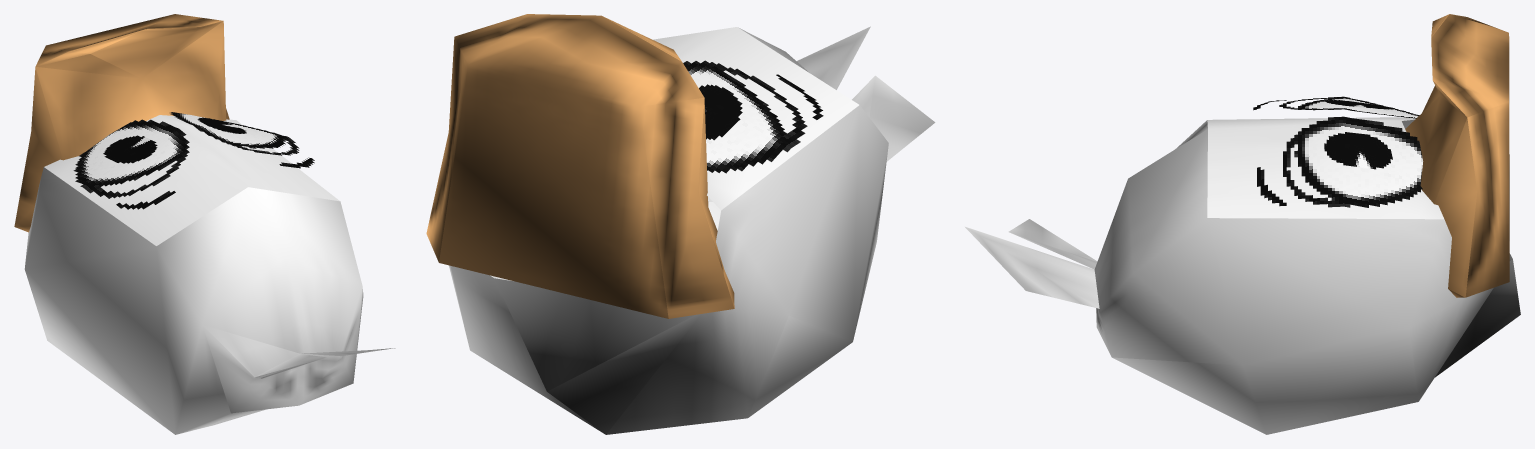
The model's file is fls_250.glb.
3 renders of one model, left to right at view 1: azimuth 30°, elevation 25°; view 2: azimuth 150°, elevation 25°; view 3: azimuth 270°, elevation 25°, orthographic. The views are drawn at different scales.
Parts seen in each view (by area): view 1: head-long, muzzle-short-neutral, head-front-long, eyes-long, joint_pupilL_long, joint_pupilR_long; view 2: muzzle-short-neutral, head-long, head-front-long, eyes-long, joint_pupilL_long; view 3: head-long, muzzle-short-neutral, head-front-long, eyes-long, joint_pupilR_long.
Part boxes in pixels (x1=…): head-long: x1=24, y1=167, x2=395, y2=434; muzzle-short-neutral: x1=14, y1=14, x2=229, y2=232; head-front-long: x1=44, y1=115, x2=339, y2=245; eyes-long: x1=73, y1=112, x2=314, y2=209; joint_pupilL_long: x1=103, y1=135, x2=157, y2=163; joint_pupilR_long: x1=197, y1=117, x2=246, y2=133; muzzle-short-neutral: x1=426, y1=14, x2=734, y2=318; head-long: x1=449, y1=26, x2=935, y2=434; head-front-long: x1=653, y1=27, x2=858, y2=210; eyes-long: x1=683, y1=60, x2=823, y2=173; joint_pupilL_long: x1=699, y1=84, x2=742, y2=140; head-long: x1=965, y1=119, x2=1520, y2=434; muzzle-short-neutral: x1=1405, y1=14, x2=1509, y2=297; head-front-long: x1=1207, y1=117, x2=1443, y2=219; eyes-long: x1=1253, y1=96, x2=1423, y2=207; joint_pupilR_long: x1=1324, y1=132, x2=1392, y2=169.
Size of the model in its own units: 1.29 by 1.63 by 2.17.
5 materials, 5 textured.
